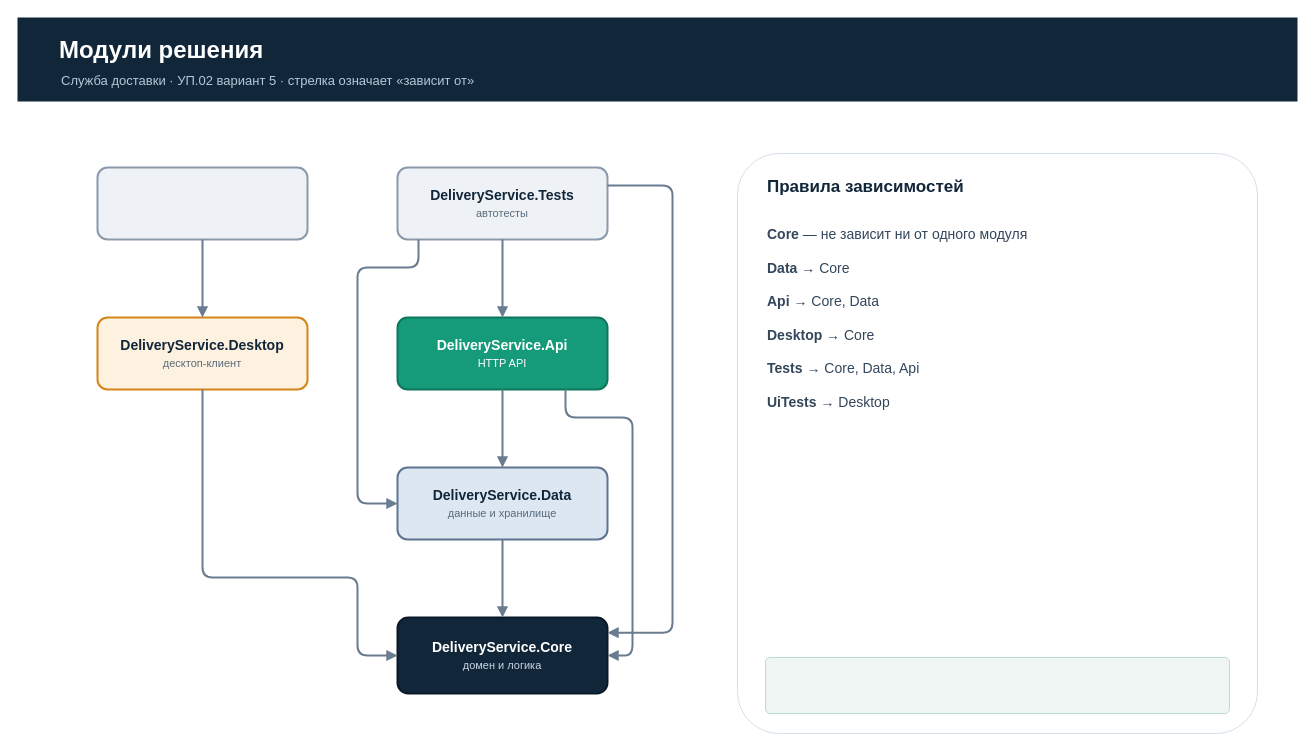
The diagram is 1314 pixels wide and 751 high, and some of its shapes have lost their labels. Each missing label, with the centre of its shape:
DeliveryService.UiTests UI-автотесты: the point at 202,203
Принцип: зависимости направлены к ядру — нижний слой не знает о верхних.: the point at 997,685
